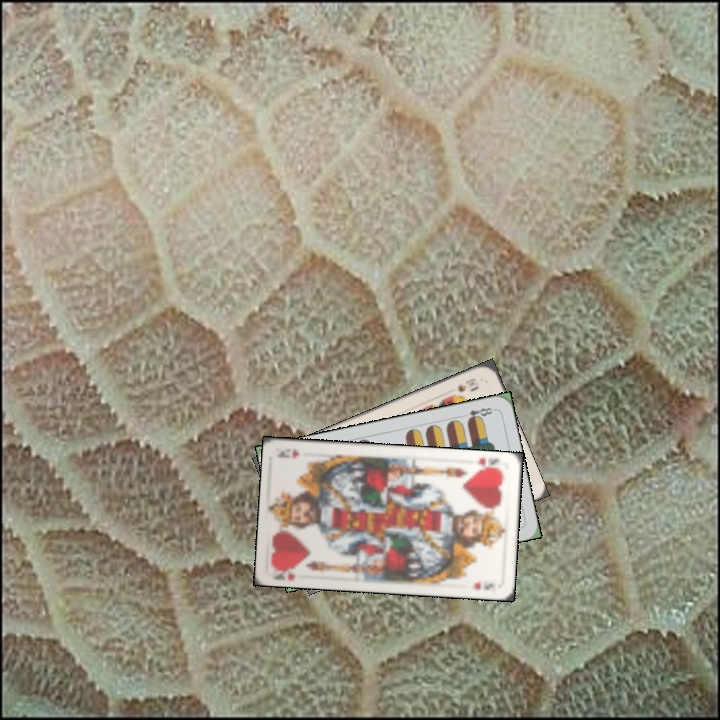E8: (457, 403, 497, 424)
HK: (269, 563, 301, 583), (472, 454, 501, 473)
S10: (447, 373, 481, 399)
